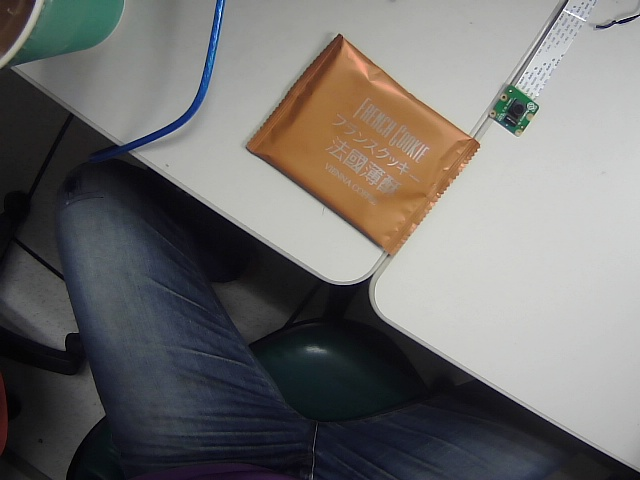frenchcookie: (245, 31, 488, 294)
